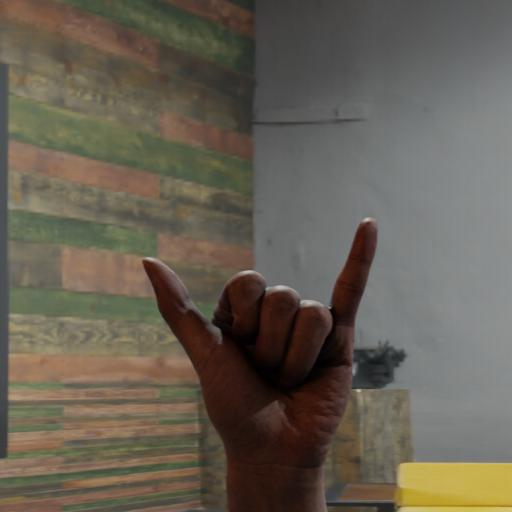Y: (139, 212, 387, 472)
